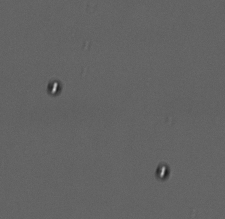Living Cell: (153, 162, 172, 180), (46, 78, 62, 96)
